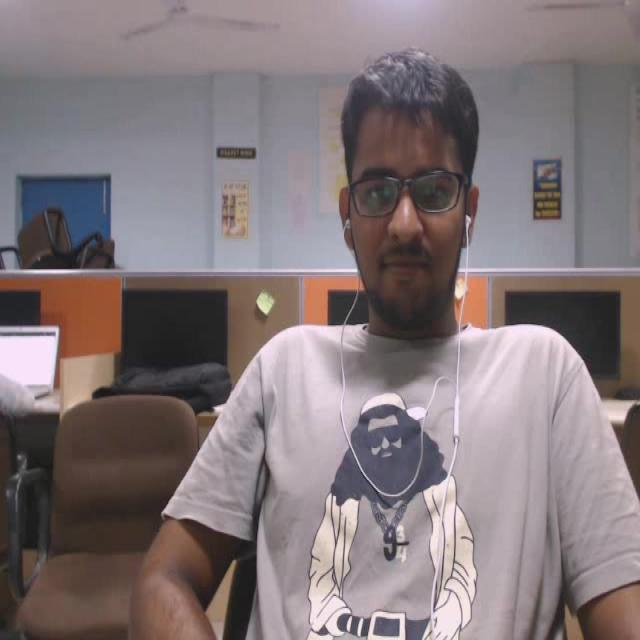Engaged: (304, 27, 507, 378)
